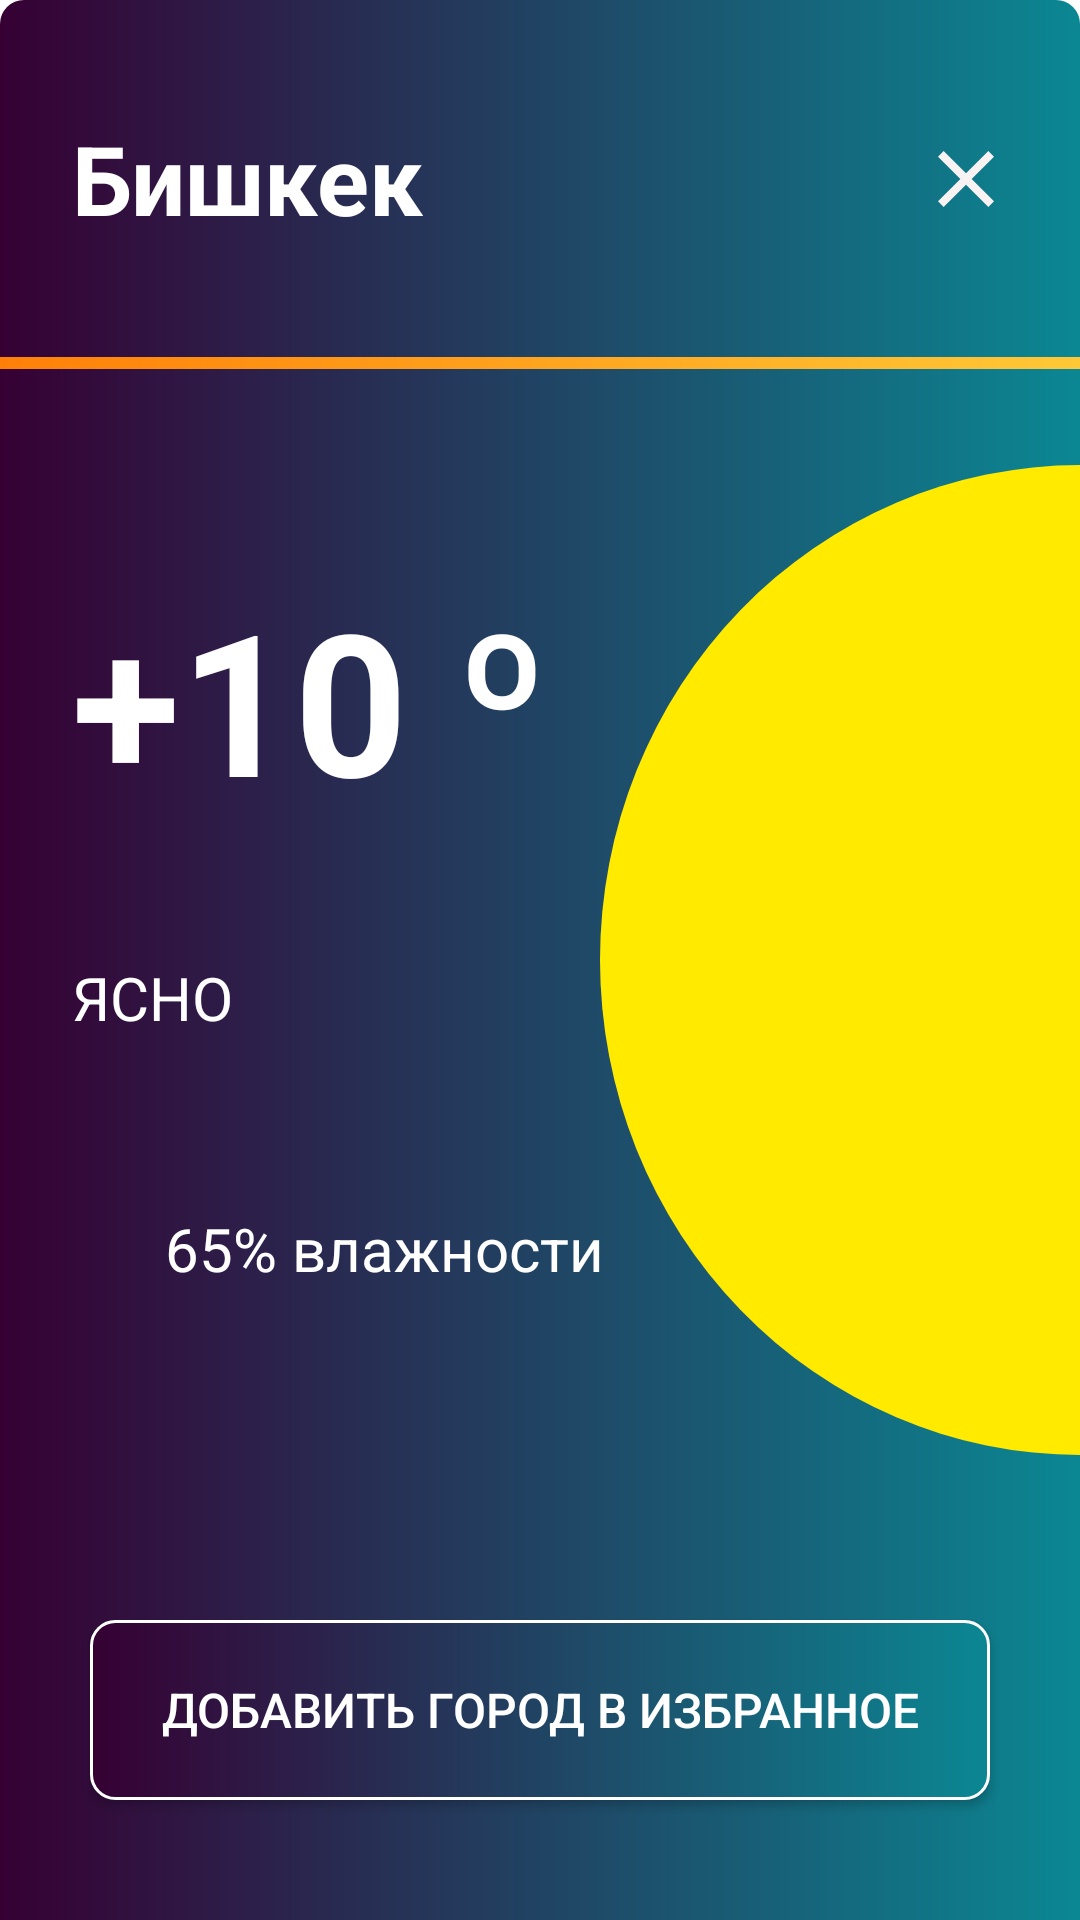

Named icons in this screenshot (1080 × 1920) and their bounding boxes, (x1, y1, x2, y2):
clear: (938, 151, 994, 207)
